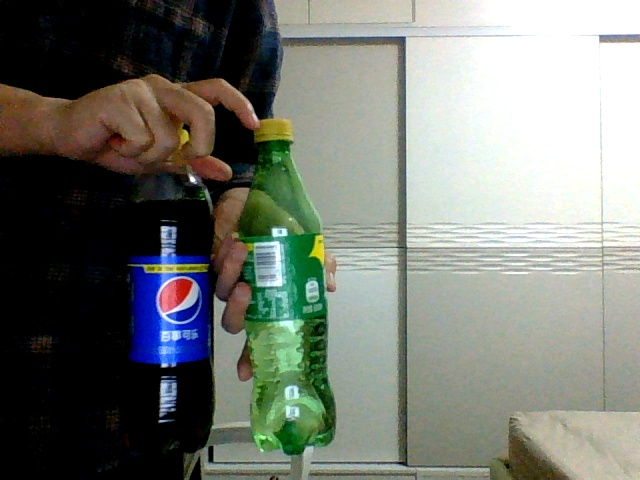Cola: (124, 134, 215, 453)
Sprite: (235, 119, 337, 453)
